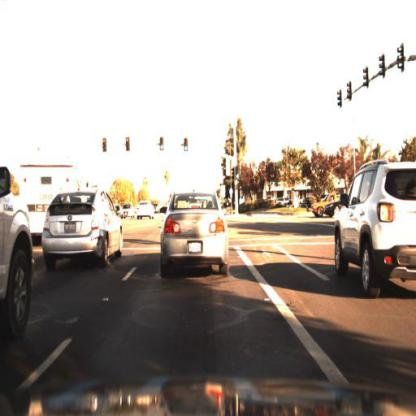car: (324, 121, 416, 319), (145, 175, 248, 290), (1, 141, 39, 366), (41, 189, 126, 267), (16, 154, 80, 211), (10, 188, 42, 228), (132, 190, 159, 226), (312, 192, 341, 221), (312, 190, 325, 221)
trafficLight: (124, 135, 132, 163), (102, 136, 110, 157), (159, 134, 166, 154)
trafficLight-Green: (179, 136, 193, 167), (234, 161, 242, 186), (156, 138, 164, 162), (234, 164, 242, 182)
trafficLight-Red: (183, 134, 190, 155)
trafficLight-RedLeft: (99, 134, 109, 160)
truck: (18, 161, 95, 249)
